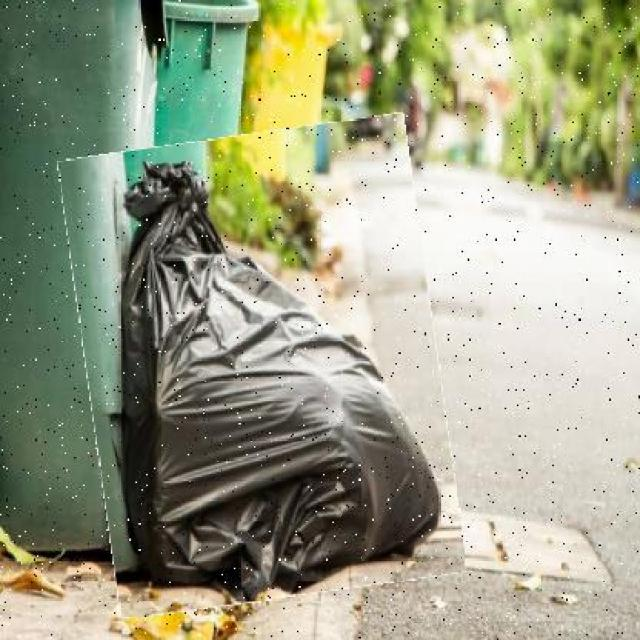waste: (72, 123, 452, 608)
